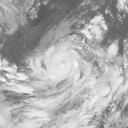cyclone: (30, 37, 95, 90)
